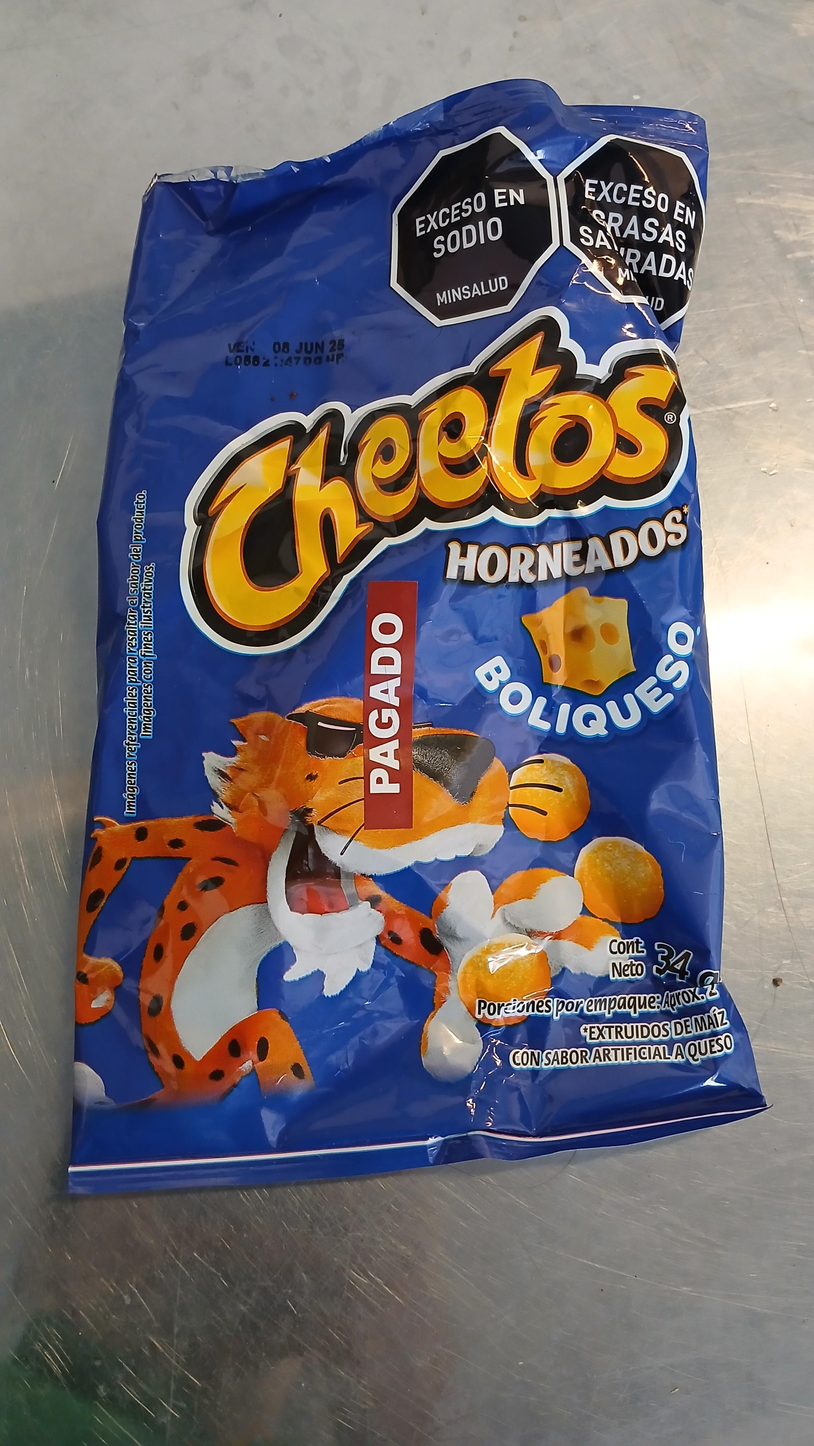Ordinario: (61, 79, 765, 1200)
